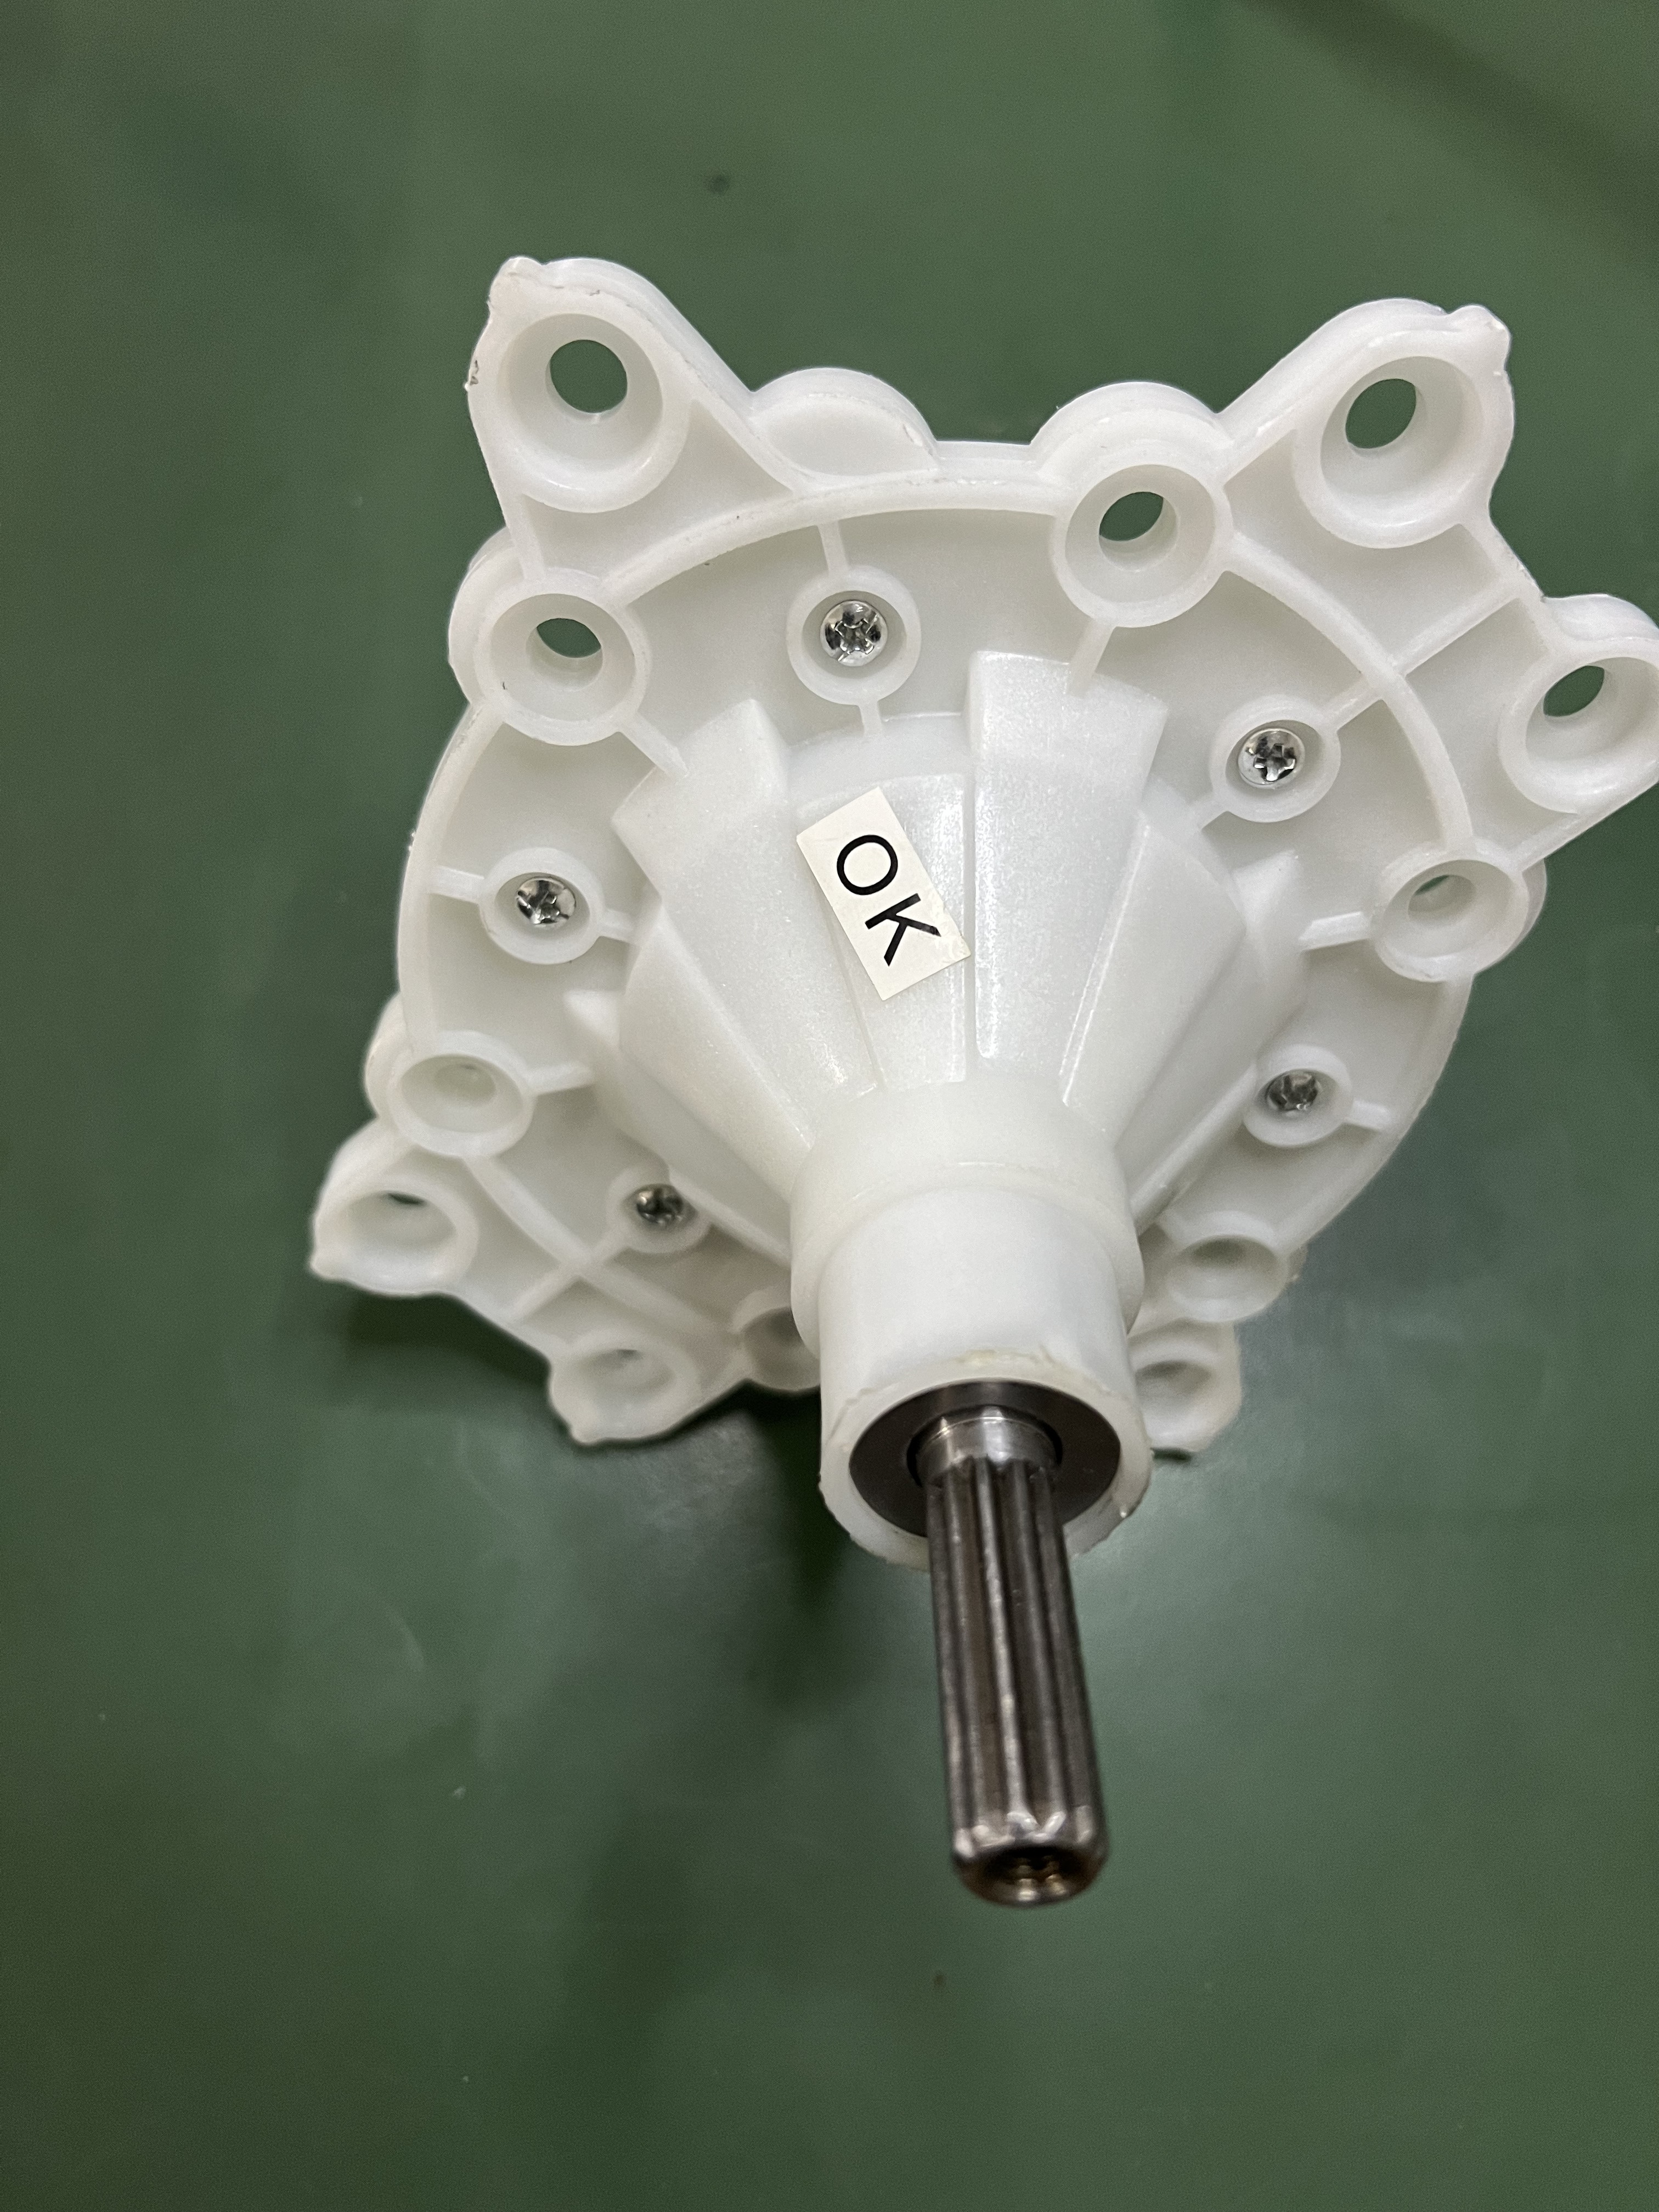gear_box_design: (342, 221, 1659, 1907)
